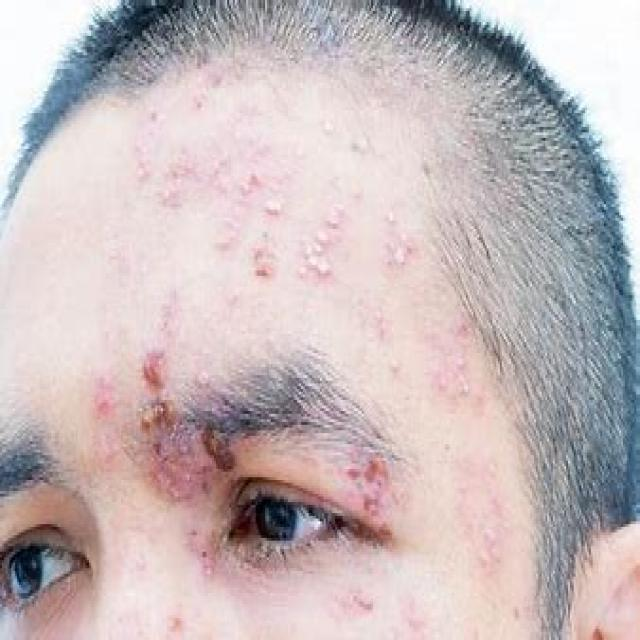Shingles: (131, 116, 471, 400), (97, 350, 235, 506), (339, 452, 390, 518)
